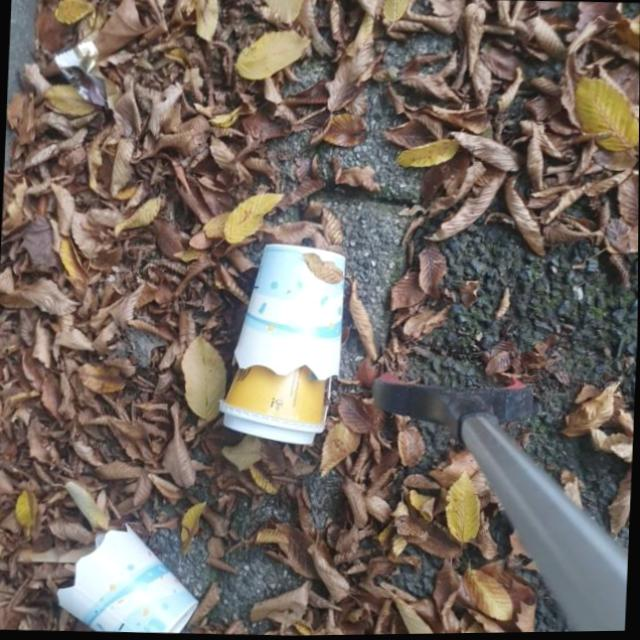Cup: (216, 361, 328, 448)
Paper: (54, 517, 203, 635), (230, 239, 348, 384)
Plastic: (49, 37, 108, 102)
